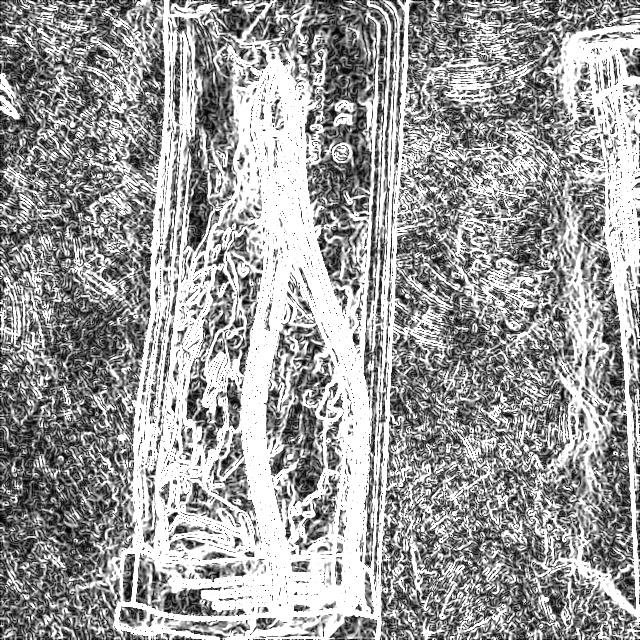forceps: (246, 37, 391, 614)
